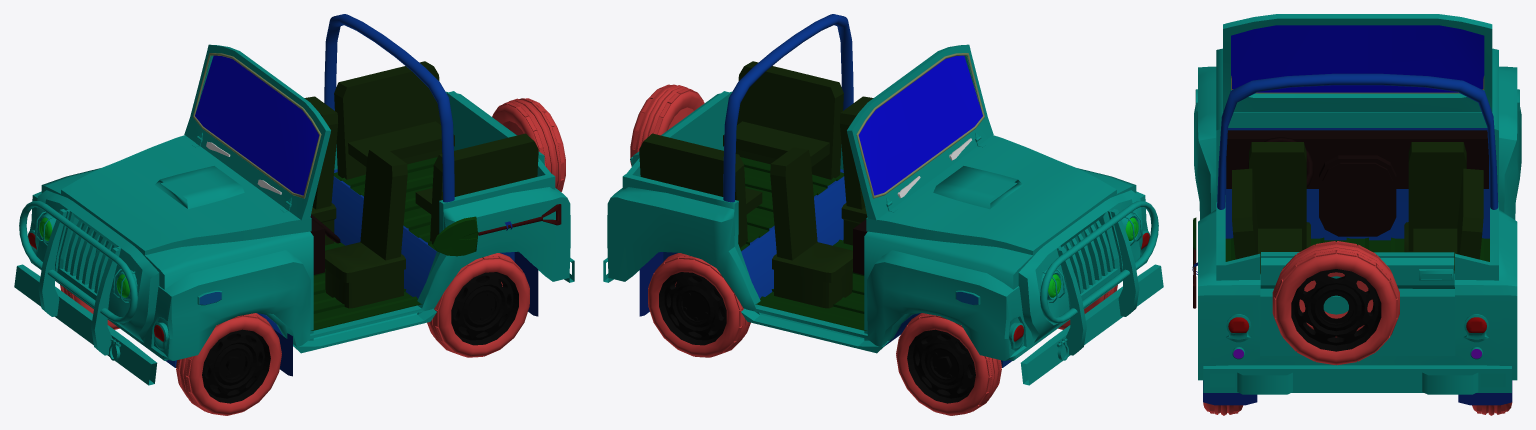
The model's file is Mesh_K-131_TakeOff.fbx.
The picture shows the model from 3 angles, left to right: view 1: azimuth 30°, elevation 25°; view 2: azimuth 150°, elevation 25°; view 3: azimuth 270°, elevation 25°; orthographic projection. The views are drawn at different scales.
Parts seen in each view (by area): view 1: K_131, Wheel_Front, Wheel_Back, Door_Back, Shovel; view 2: K_131, Wheel_Front, Wheel_Back, Door_Back; view 3: K_131, Door_Back, Wheel_Back, Shovel.
Boxes of the visible parts, <box> form: K_131: <box>14,14,574,385</box>; Wheel_Front: <box>60,285,281,415</box>; Wheel_Back: <box>427,253,529,357</box>; Door_Back: <box>447,91,565,191</box>; Shovel: <box>432,204,561,256</box>; K_131: <box>603,14,1163,385</box>; Wheel_Front: <box>896,285,1117,415</box>; Wheel_Back: <box>648,253,750,357</box>; Door_Back: <box>630,84,730,166</box>; K_131: <box>1192,14,1521,405</box>; Door_Back: <box>1260,241,1455,365</box>; Wheel_Back: <box>1203,402,1512,415</box>; Shovel: <box>1193,217,1196,308</box>.
Size of the model in its own units: 624 by 354 by 331.
